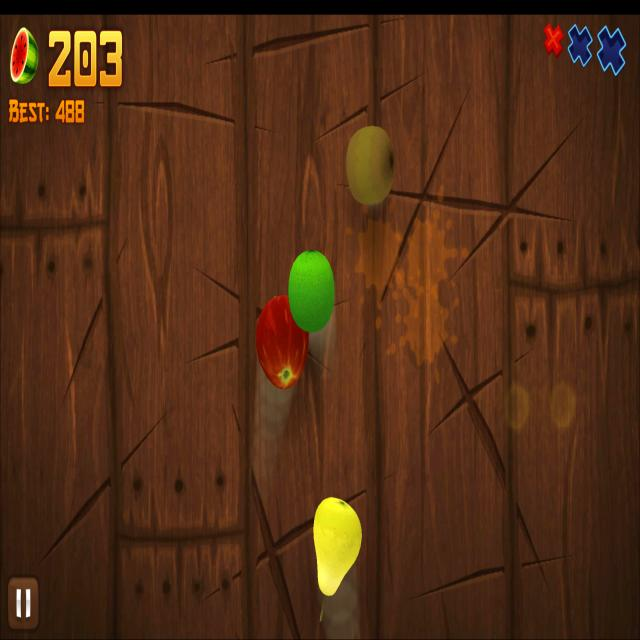fruit: (314, 497, 364, 597), (257, 295, 310, 389), (345, 126, 395, 206), (288, 251, 335, 332)
